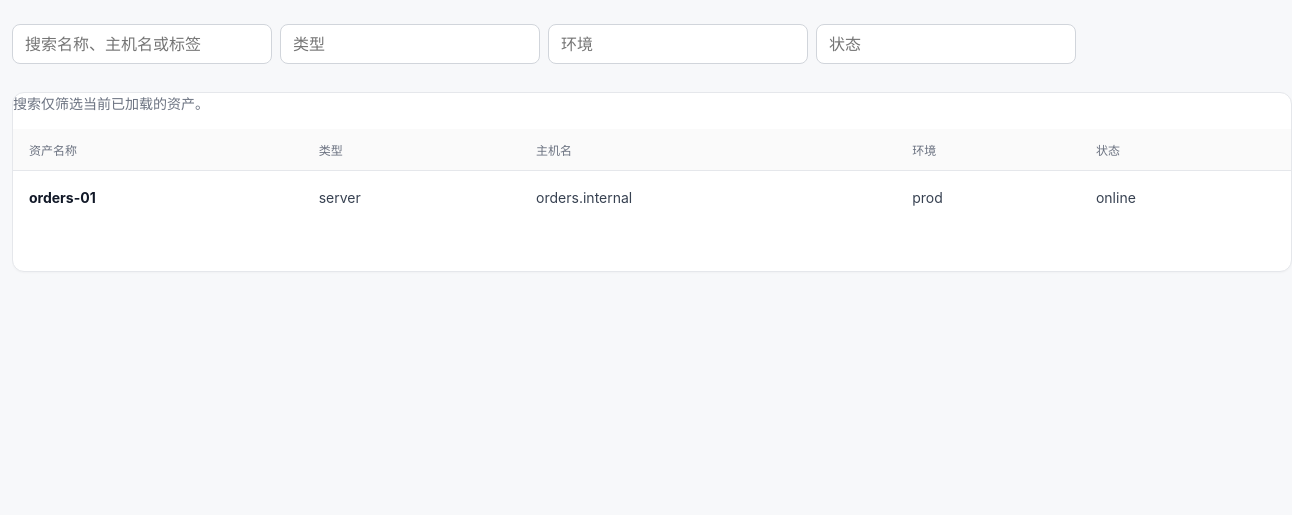
Test: asset workflows › lists and opens asset detail with linked credential metadata
Click the button "orders-01" at (62, 197), box [29, 185, 96, 210]
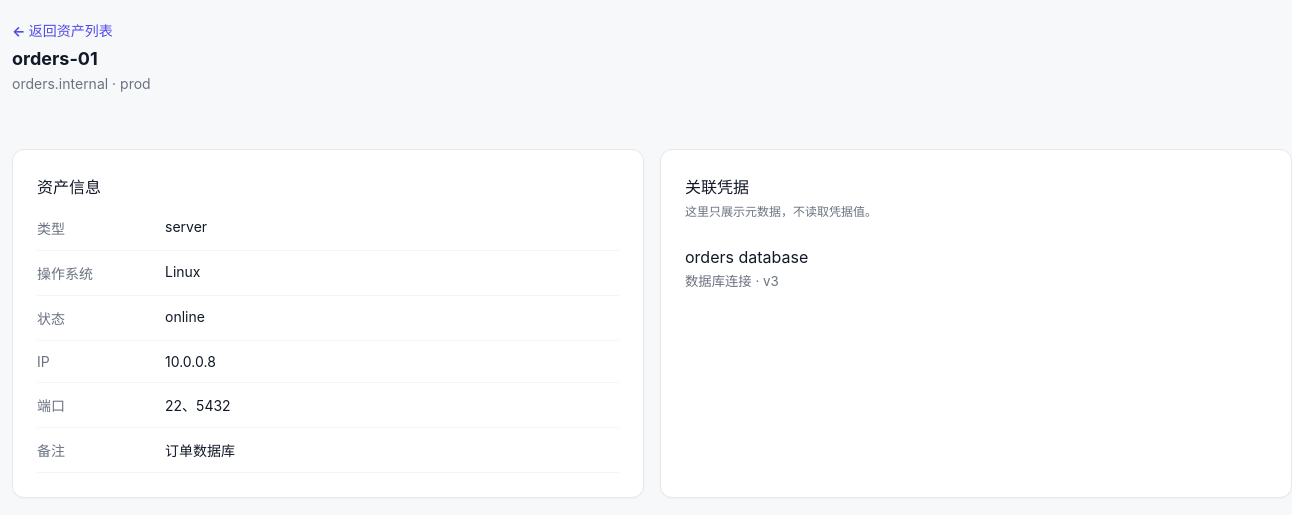
Expected: the text "orders database" is shown, [685, 247, 808, 267]
